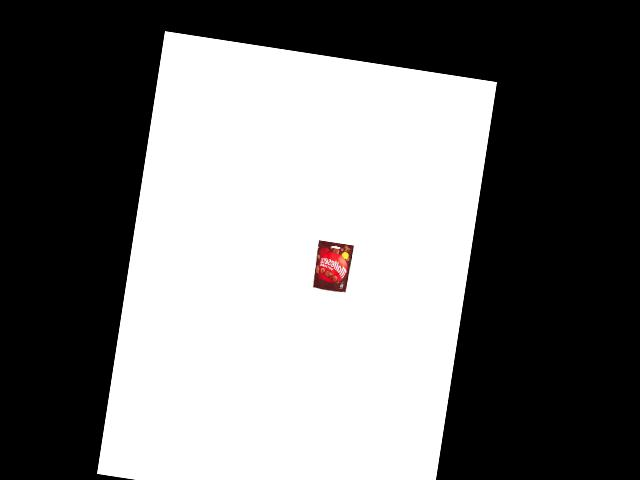chocolate: (310, 239, 354, 294)
